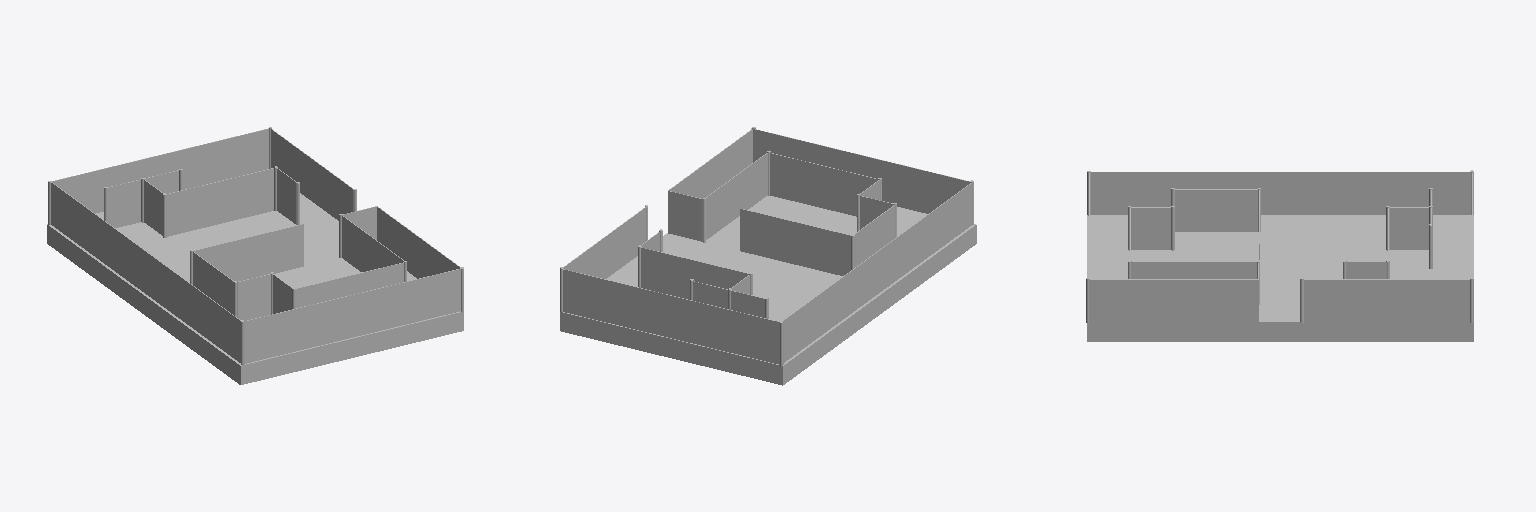
The model's file is CourseWork1.obj.
3 renders of one model, left to right at view 1: azimuth 30°, elevation 25°; view 2: azimuth 150°, elevation 25°; view 3: azimuth 270°, elevation 25°, orthographic.
Visible parts, largest first — view 1: Cube.024_Cube.028; view 2: Cube.024_Cube.028; view 3: Cube.024_Cube.028.
Part boxes in pixels (bbox=[...]): Cube.024_Cube.028: bbox=[47, 127, 463, 384]; Cube.024_Cube.028: bbox=[560, 127, 976, 385]; Cube.024_Cube.028: bbox=[1086, 170, 1473, 341].
Size of the model in its own units: 12.03 by 3.23 by 18.04.